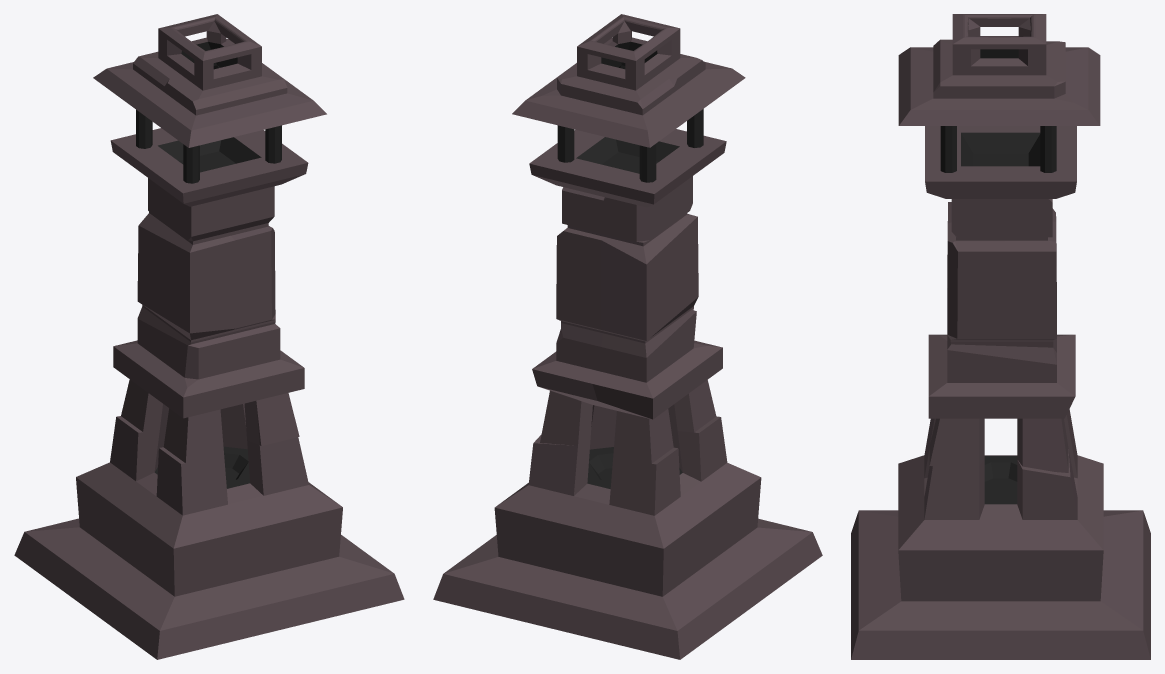
Rendered from TOTEM 1.fbx.
The picture shows the model from 3 angles, left to right: view 1: azimuth 30°, elevation 25°; view 2: azimuth 150°, elevation 25°; view 3: azimuth 270°, elevation 25°; orthographic projection. The views are drawn at different scales.
Visible parts, largest first — view 1: Cube; view 2: Cube; view 3: Cube.
Part boxes in pixels (x1=…): Cube: x1=14, y1=14, x2=404, y2=659; Cube: x1=433, y1=14, x2=822, y2=659; Cube: x1=851, y1=14, x2=1150, y2=659.
Bounding box in the file's own units: 211 × 443 × 211.
